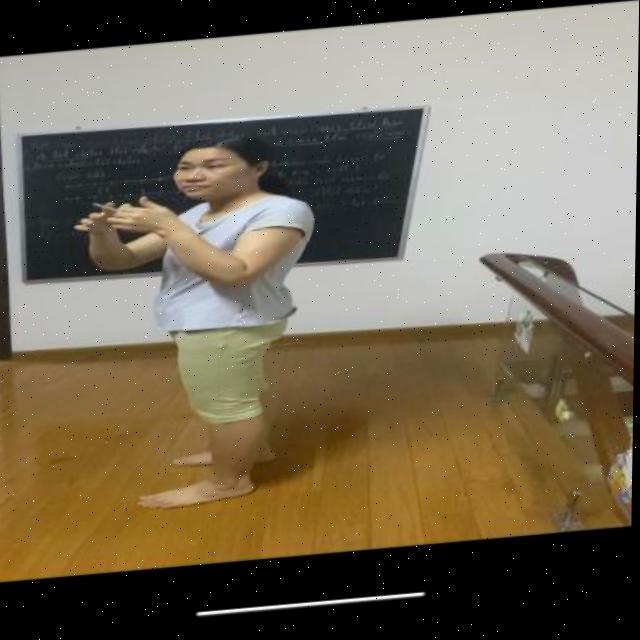cigarette: (91, 201, 120, 215)
